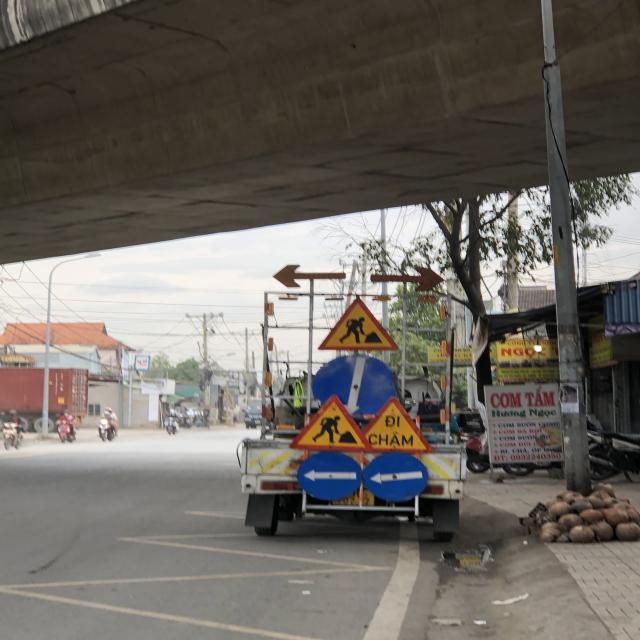Bien bao cong truong: (315, 295, 404, 355), (287, 392, 371, 455)
